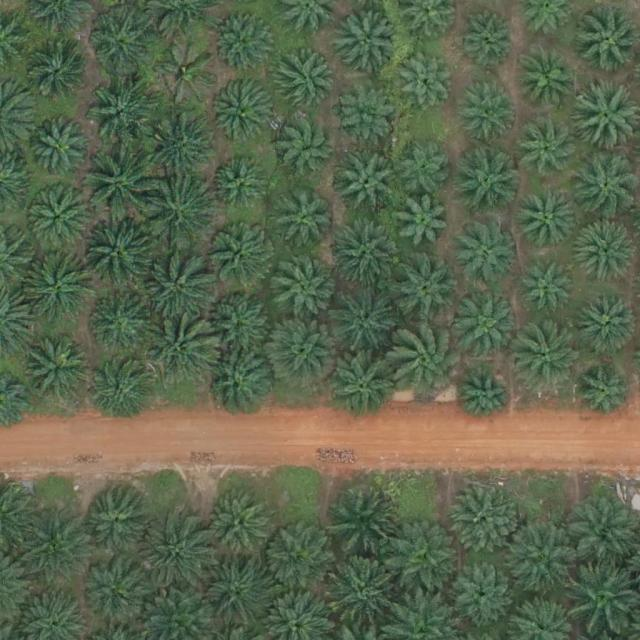Healthy: (389, 324, 467, 403), (386, 525, 457, 596), (569, 84, 640, 155), (329, 222, 400, 293), (329, 285, 400, 356), (142, 250, 213, 321), (144, 107, 215, 178), (511, 523, 581, 594), (450, 487, 520, 558), (331, 485, 401, 556), (199, 560, 270, 630), (81, 487, 151, 558), (82, 555, 152, 626), (15, 515, 85, 586), (515, 322, 585, 393), (327, 352, 397, 423), (144, 316, 214, 387), (144, 179, 214, 250), (83, 150, 153, 221), (84, 217, 154, 288), (22, 253, 93, 323), (569, 500, 639, 570), (327, 555, 397, 625), (263, 523, 333, 593), (142, 519, 212, 589), (389, 255, 459, 325), (270, 320, 340, 390), (204, 349, 274, 419), (87, 75, 157, 145), (24, 339, 94, 409), (450, 559, 513, 622), (205, 494, 268, 557), (577, 219, 640, 282), (517, 48, 580, 111), (454, 221, 517, 284), (457, 297, 520, 360), (334, 82, 397, 145), (339, 156, 402, 219), (272, 51, 335, 114), (275, 114, 338, 177), (89, 363, 152, 426), (578, 293, 640, 356), (519, 121, 581, 184), (516, 190, 578, 253), (457, 78, 519, 141), (456, 153, 518, 216), (337, 13, 399, 76), (273, 259, 335, 322), (214, 11, 276, 74), (212, 83, 274, 146), (211, 224, 273, 287), (89, 11, 151, 74), (91, 294, 153, 357), (27, 189, 89, 252), (212, 288, 274, 350), (25, 48, 87, 110), (579, 369, 634, 424), (523, 262, 578, 317), (460, 11, 515, 66), (213, 161, 268, 216), (33, 123, 88, 178), (458, 369, 512, 424), (398, 54, 452, 109), (398, 142, 452, 197), (396, 197, 450, 252), (278, 194, 332, 249)
Yellow: (157, 42, 219, 105)
